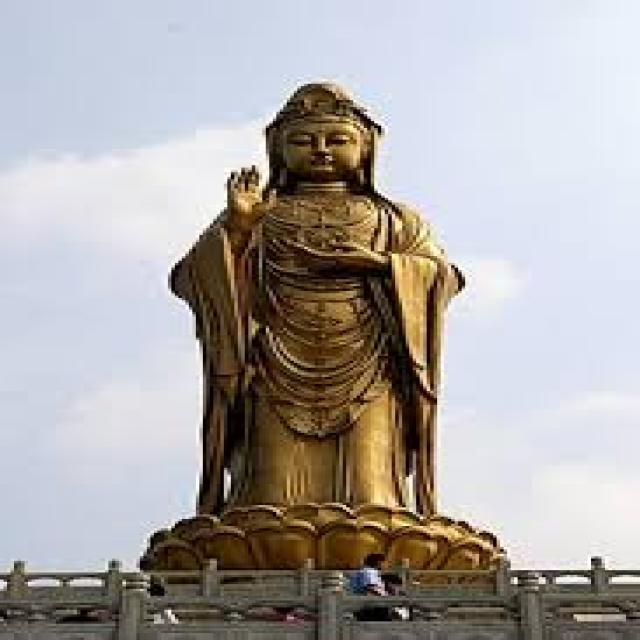Guan Yin: (162, 77, 473, 500)
